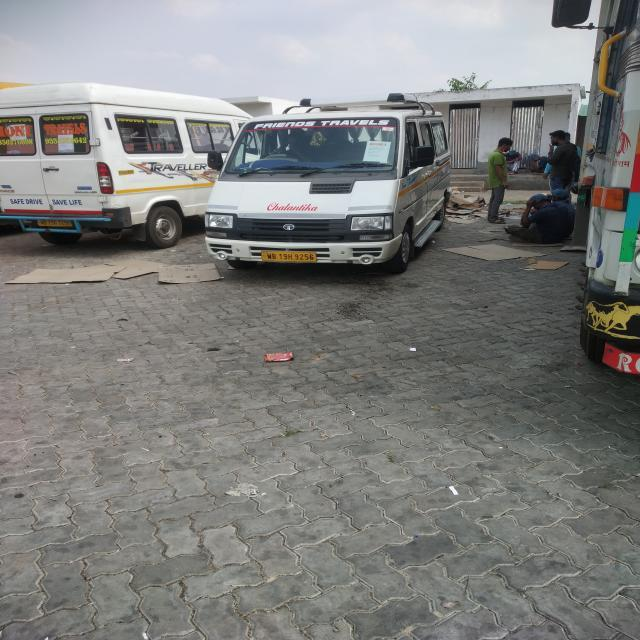Travller: (9, 76, 227, 262), (228, 110, 462, 274)
